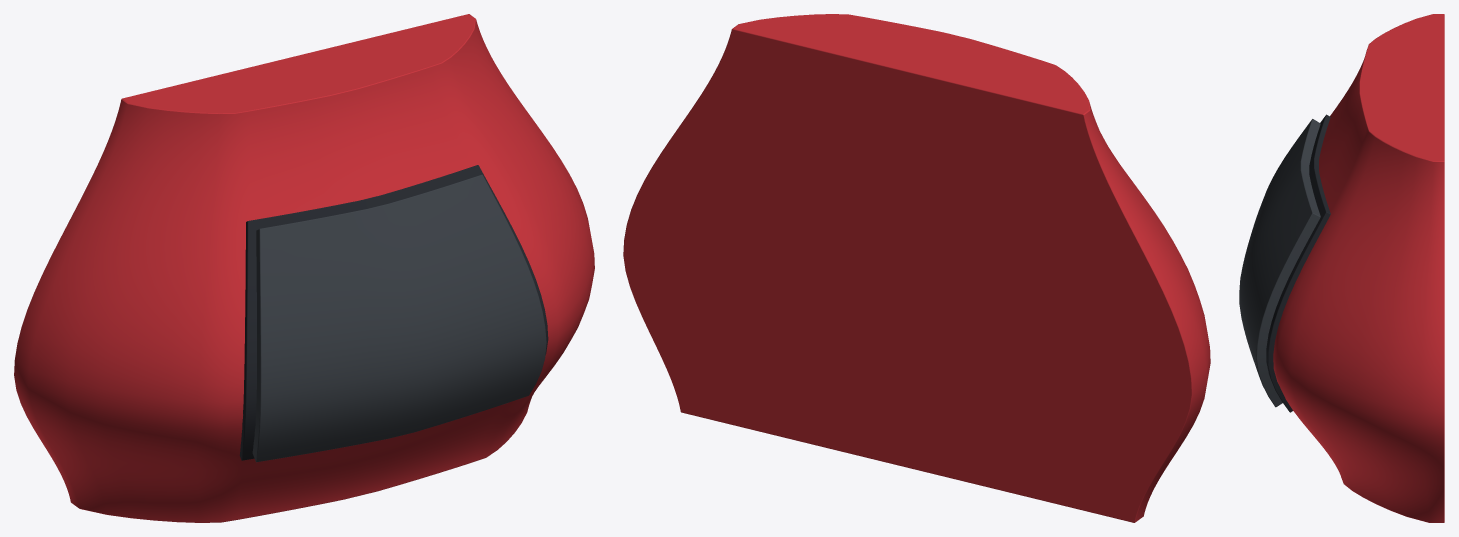
File: HandBack_Set01_Ironclad.fbx
3 views of the same model, side by side, from view 1: azimuth 30°, elevation 25°; view 2: azimuth 150°, elevation 25°; view 3: azimuth 270°, elevation 25° (orthographic). The views are drawn at different scales.
Parts seen in each view (by area): view 1: HandBack_Set01_Ironclad; view 2: HandBack_Set01_Ironclad; view 3: HandBack_Set01_Ironclad.
Part boxes in pixels (x1,y1,x2,y2): HandBack_Set01_Ironclad: [14, 14, 594, 522]; HandBack_Set01_Ironclad: [623, 14, 1210, 522]; HandBack_Set01_Ironclad: [1239, 14, 1444, 522].
Bounding box in the file's own units: 0.3008 × 0.2 × 0.1093.
